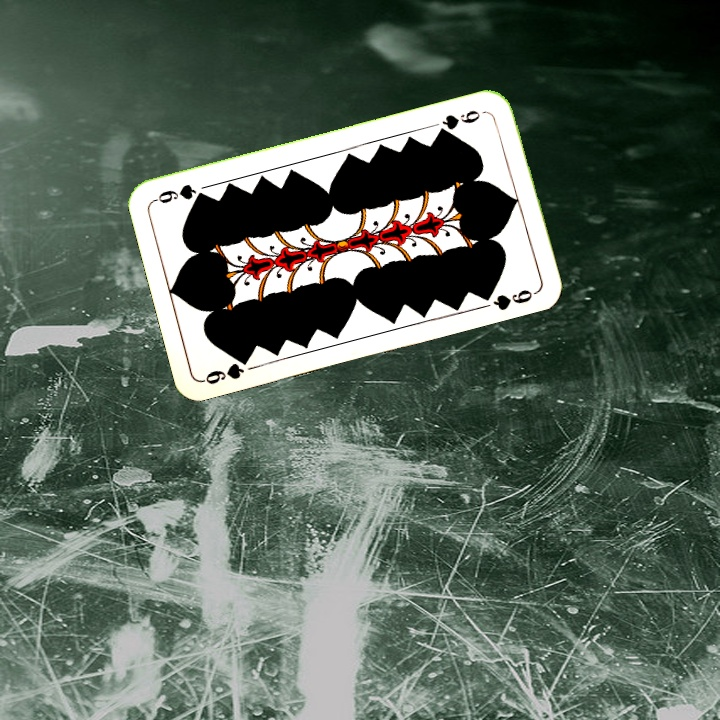G9: (199, 351, 254, 387), (434, 106, 490, 137)
